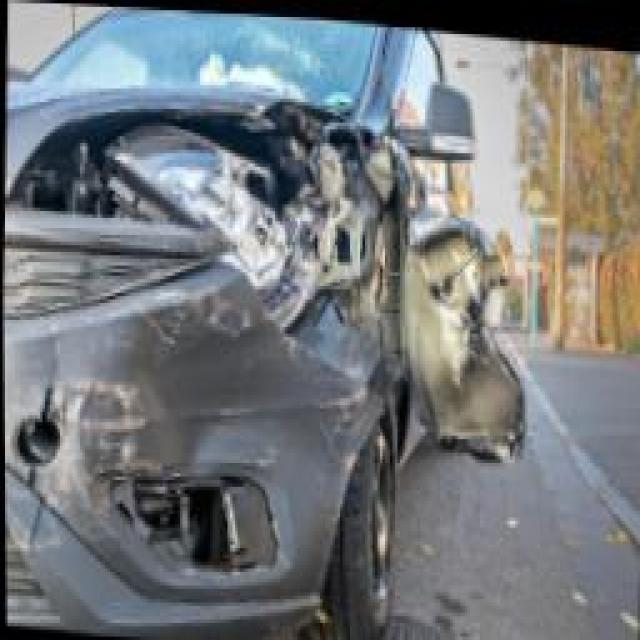Bumper: (30, 327, 297, 625)
Light: (82, 126, 311, 307), (295, 204, 402, 427)
